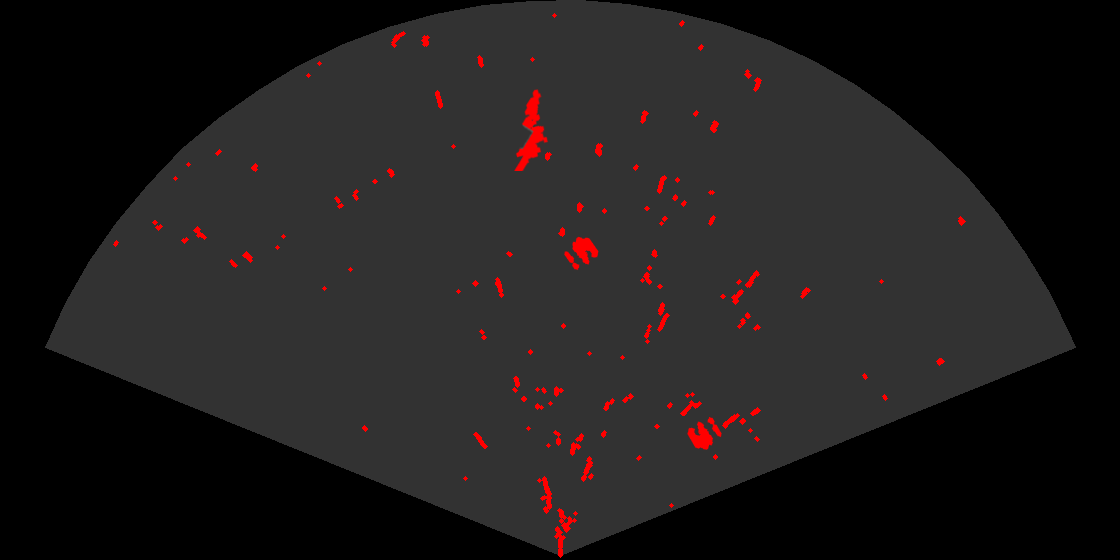ball: (563, 235, 600, 272), (686, 415, 723, 451)
frogman: (513, 88, 550, 171)
